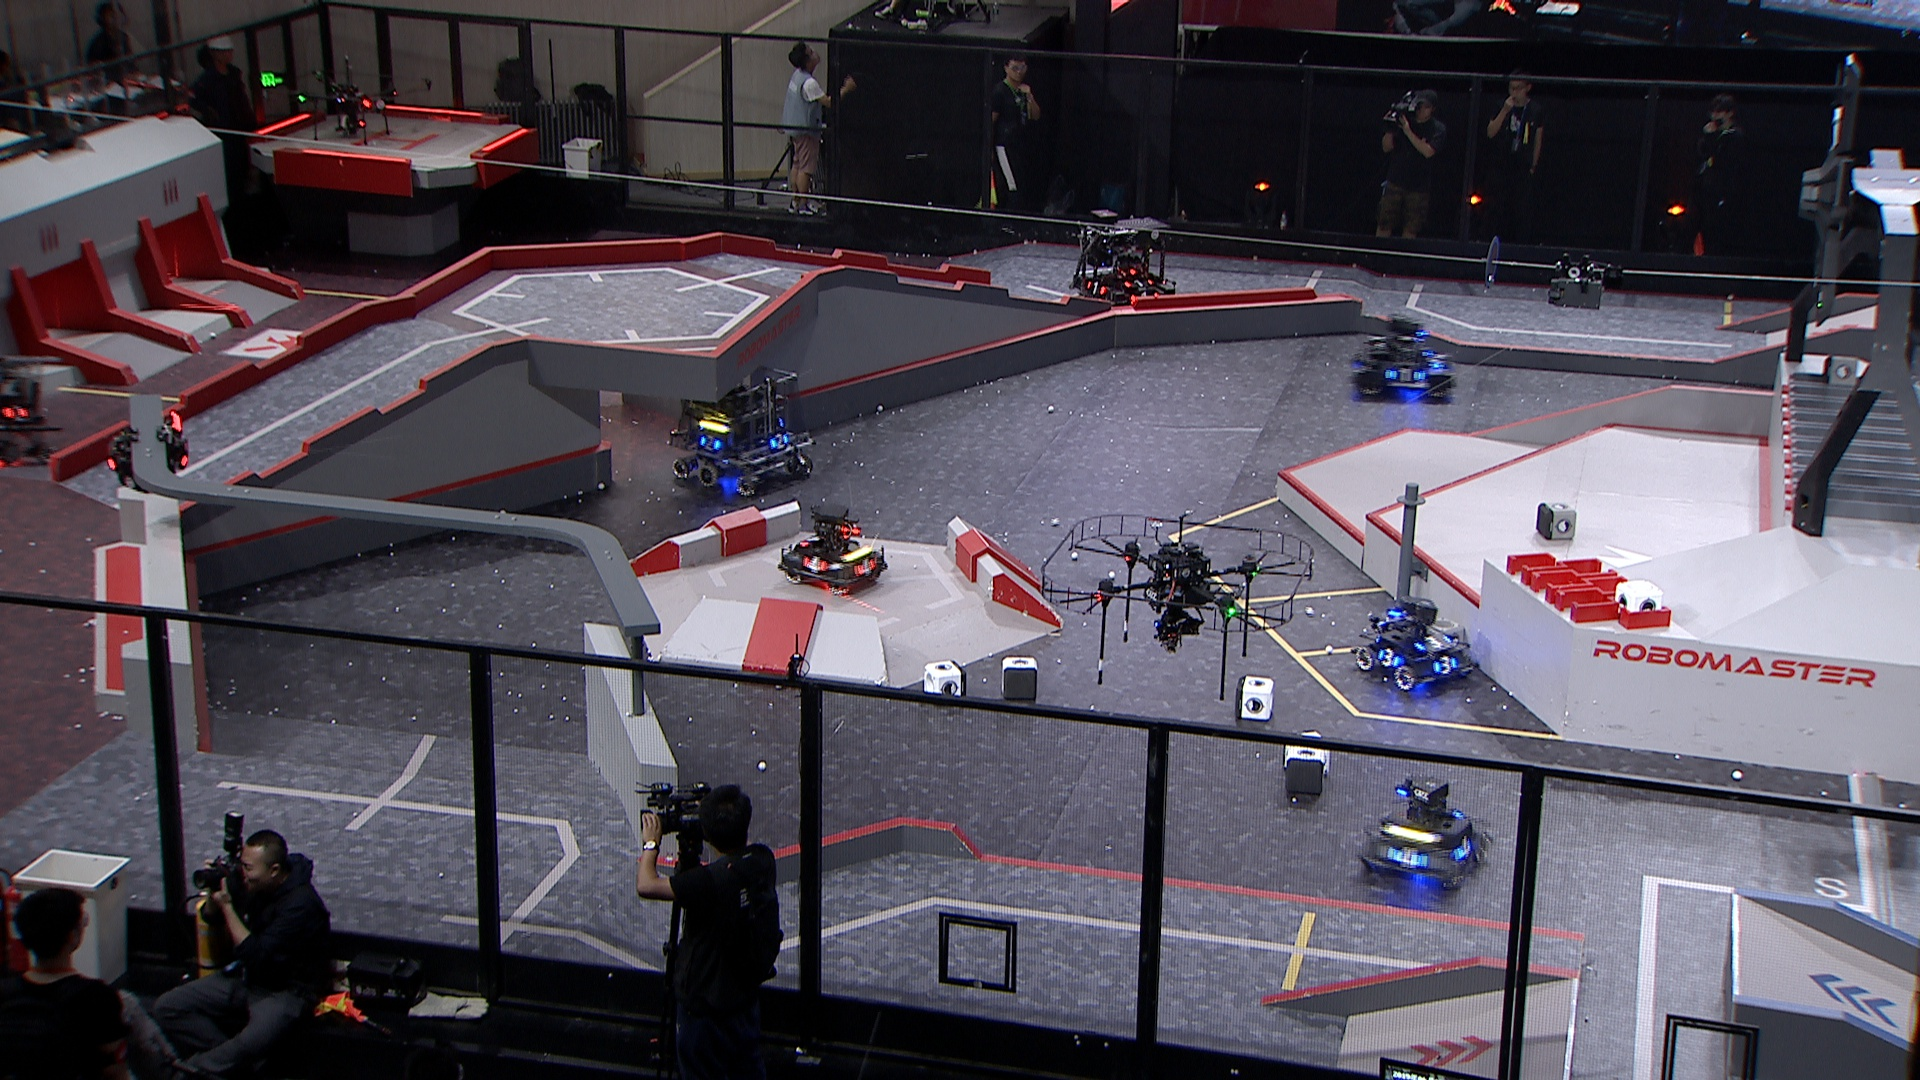armor: (1385, 845, 1428, 872), (1385, 365, 1425, 385), (1411, 633, 1451, 651), (0, 404, 34, 423), (1432, 654, 1458, 678), (802, 556, 831, 576), (1453, 836, 1474, 862), (1377, 647, 1400, 670), (851, 556, 876, 578), (699, 433, 723, 452), (1084, 278, 1109, 297), (1122, 277, 1154, 291), (767, 433, 789, 452), (798, 533, 820, 550), (1424, 353, 1447, 368)
car: (662, 367, 818, 498), (1353, 777, 1495, 889), (1352, 593, 1481, 694), (775, 505, 893, 597), (1344, 315, 1456, 404), (1069, 216, 1176, 309)
watcher: (105, 409, 191, 495)
